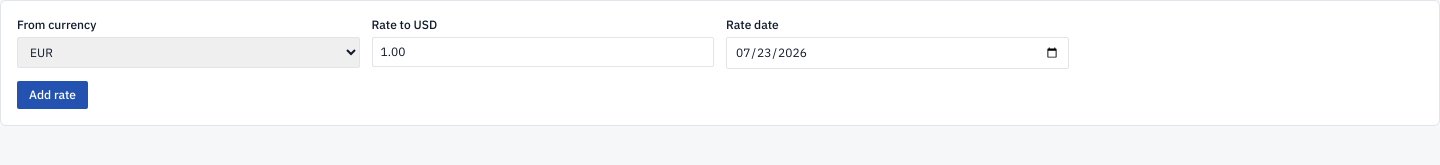
Test: ExchangeRateForm › shows success feedback after saving a rate
What coordinates should you click on to do the following:
click the button "Add rate"
I would click on:
 (52, 95)
Its box is [17,81,88,109].
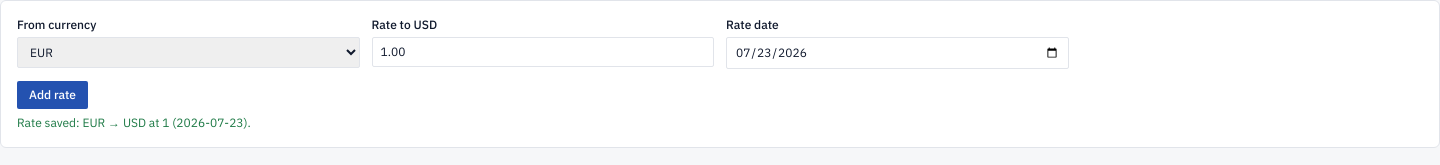
Expected: the text "Rate saved: EUR → USD at 1 (2026-07-23)." is shown, [17,115,251,130]
